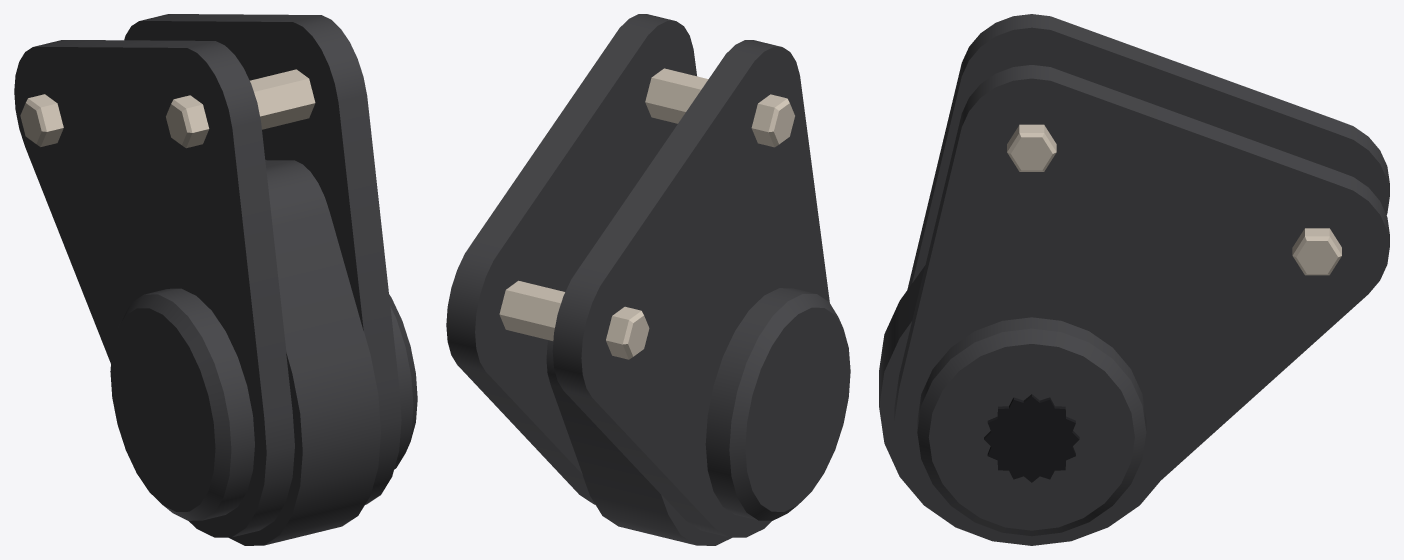
The model's file is SM_Susp_RL_Rocker.fbx.
3 renders of one model, left to right at view 1: azimuth 30°, elevation 25°; view 2: azimuth 150°, elevation 25°; view 3: azimuth 270°, elevation 25°, orthographic. The views are drawn at different scales.
Visible parts, largest first — view 1: Export_Susp_RL_Rocker; view 2: Export_Susp_RL_Rocker; view 3: Export_Susp_RL_Rocker.
Part boxes in pixels (<box>): Export_Susp_RL_Rocker: <box>14,14,417,545</box>; Export_Susp_RL_Rocker: <box>446,14,850,545</box>; Export_Susp_RL_Rocker: <box>879,14,1389,545</box>.
Size of the model in its own units: 0.1338 by 0.0615 by 0.139.
